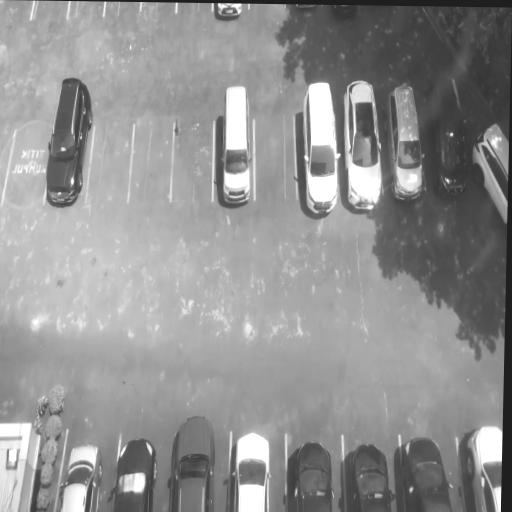Car: (40, 76, 92, 205), (340, 78, 386, 210), (300, 79, 338, 215), (385, 77, 426, 201), (215, 82, 253, 213), (168, 409, 216, 512), (396, 435, 456, 512), (469, 120, 509, 231), (434, 71, 470, 194), (460, 426, 503, 512), (345, 439, 395, 512), (231, 429, 274, 512), (110, 439, 158, 512), (56, 443, 103, 512), (291, 442, 332, 512), (211, 3, 242, 19)
Space Available: (128, 121, 176, 205), (253, 114, 298, 203), (84, 125, 133, 205), (1, 123, 49, 203), (170, 122, 213, 204), (138, 3, 178, 23), (176, 3, 214, 23), (28, 0, 68, 17), (68, 1, 106, 18), (104, 2, 139, 20)
